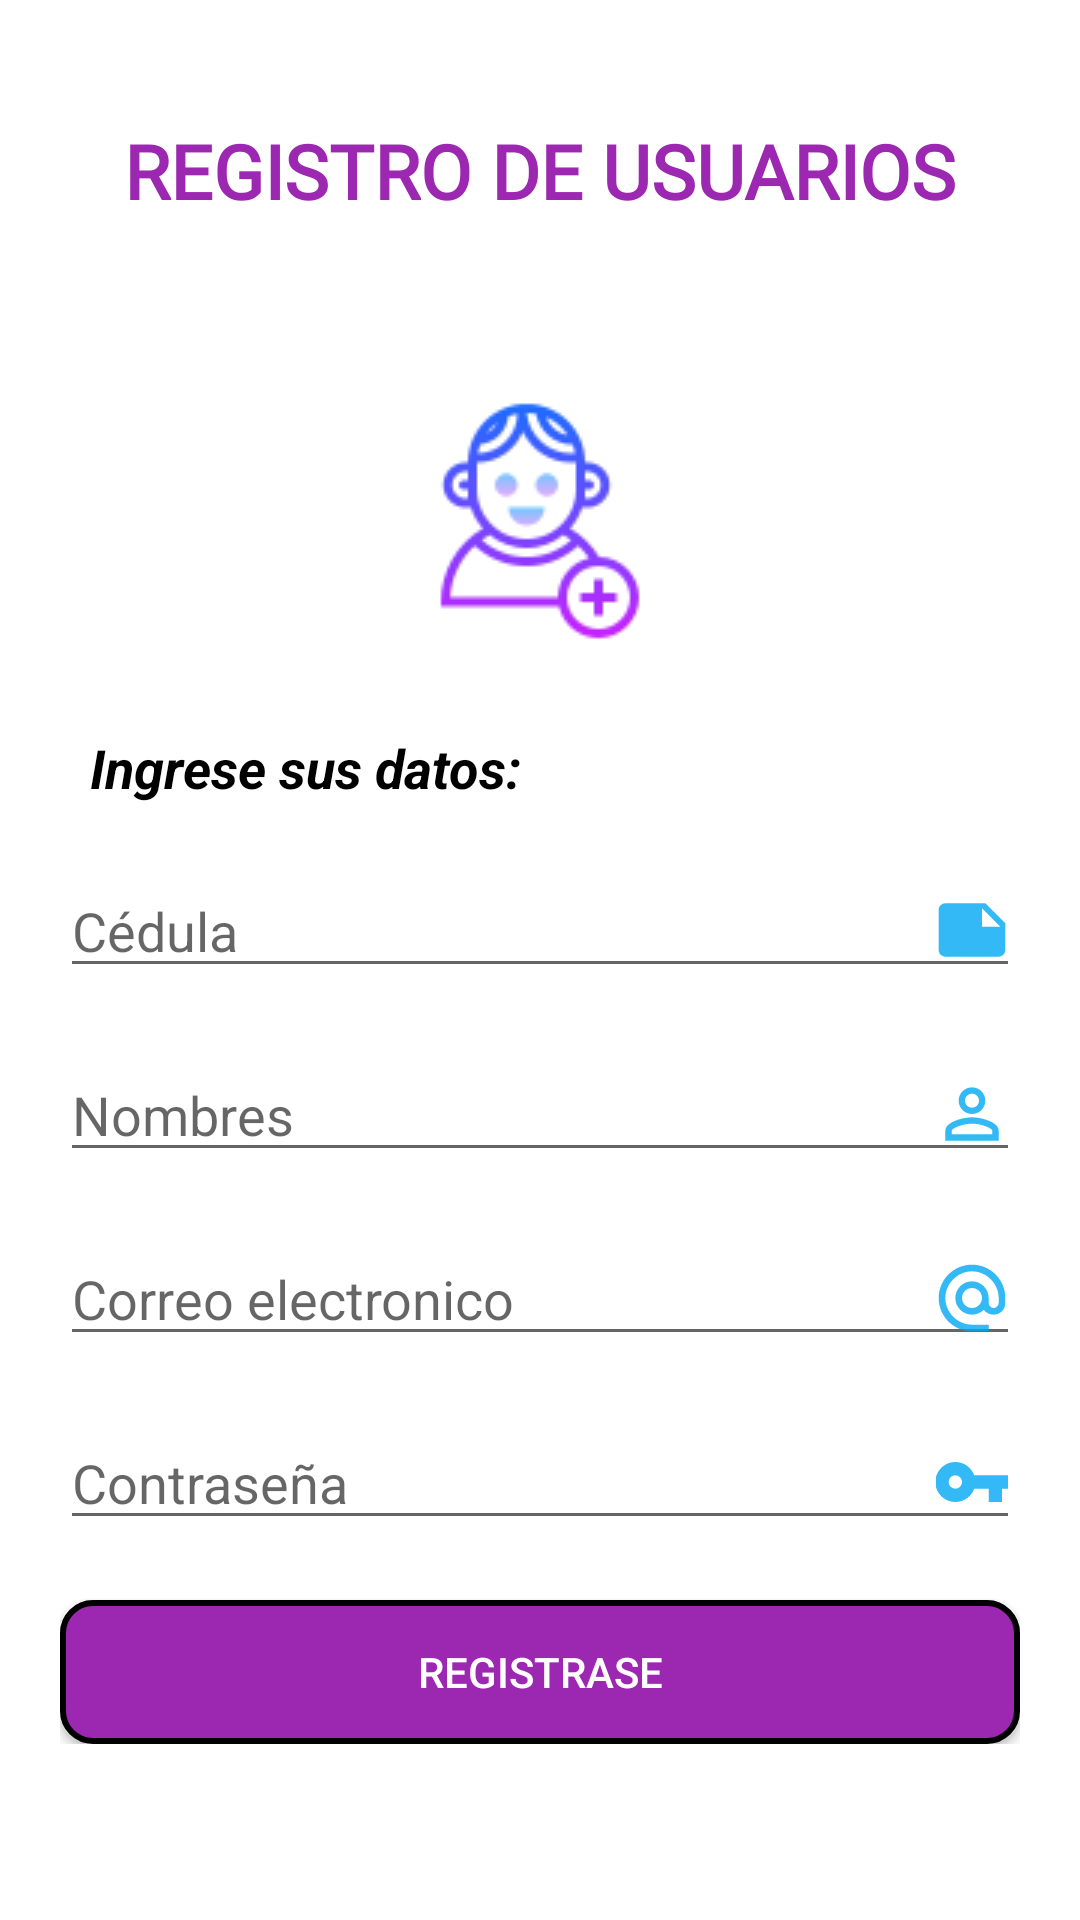

Icons on this 1080px×1920px Android screen, each with the point to tap as (x,y):
Add user: (540,521)
